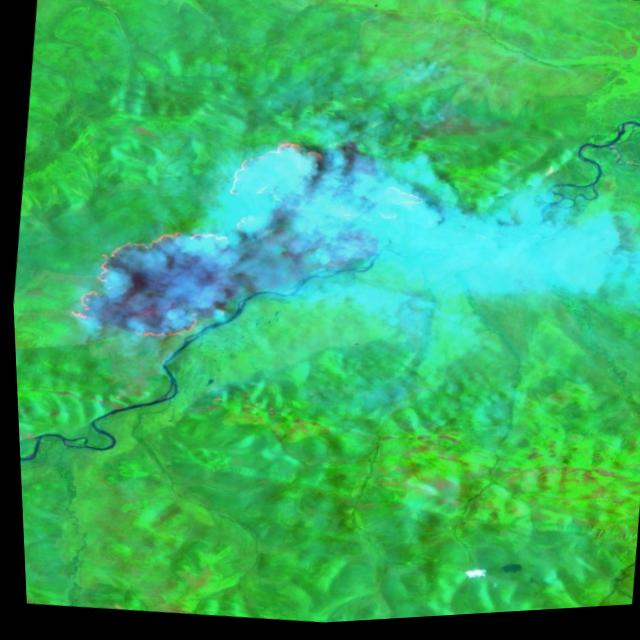fire: (49, 111, 342, 370)
